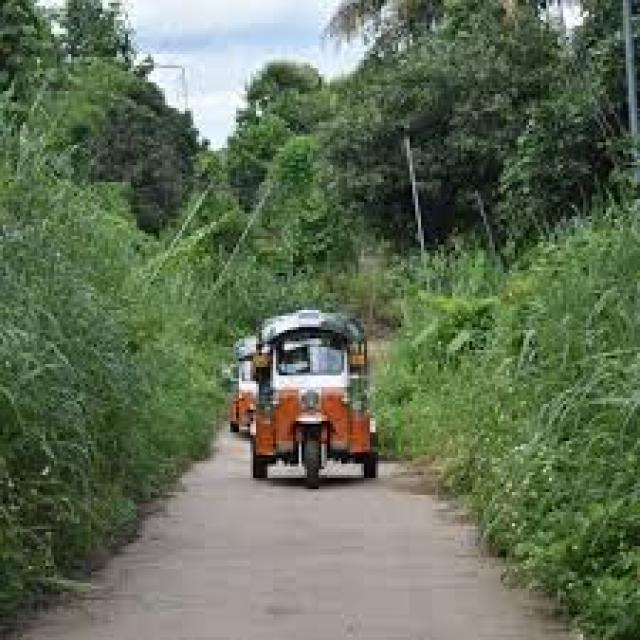tuktuk: (226, 274, 430, 508)
